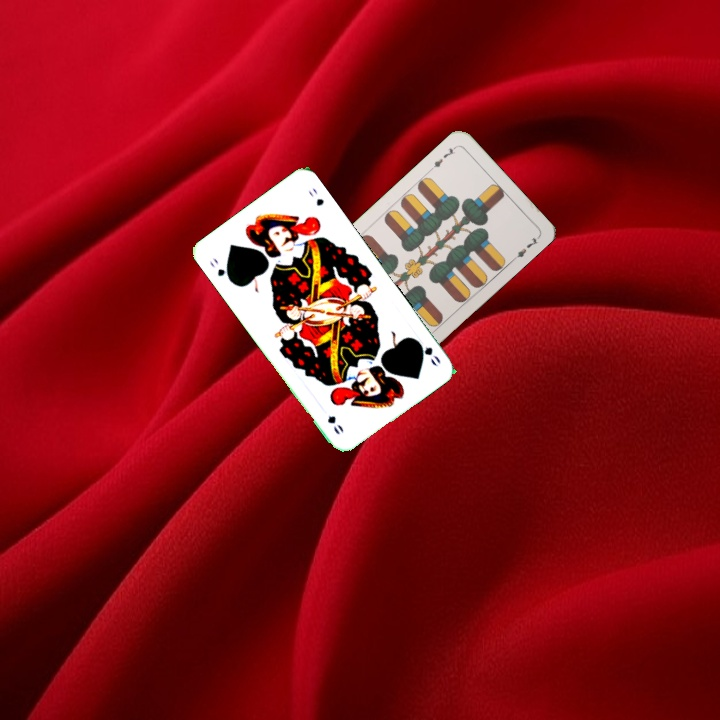E7: (426, 142, 458, 173)
GO: (411, 335, 443, 369), (206, 253, 235, 285)
